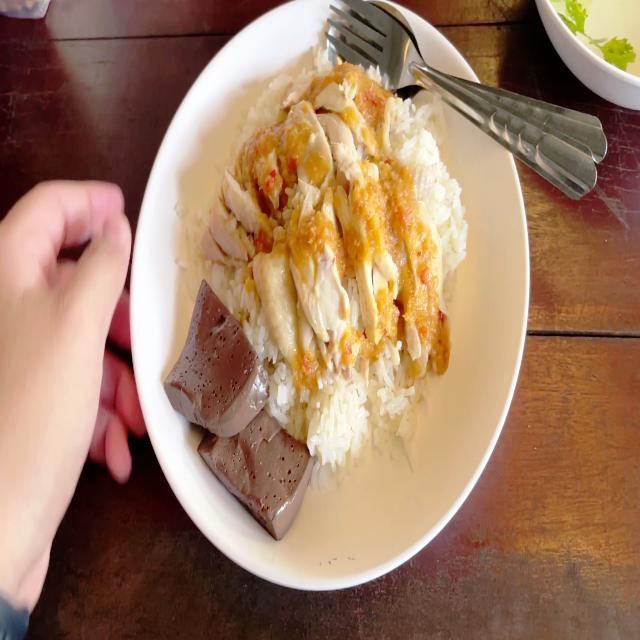boiled_chicken: (214, 71, 403, 337)
boiled_chicken_blood_jelly: (160, 278, 268, 426), (194, 390, 310, 527)
chicken_rice: (163, 43, 465, 540)
